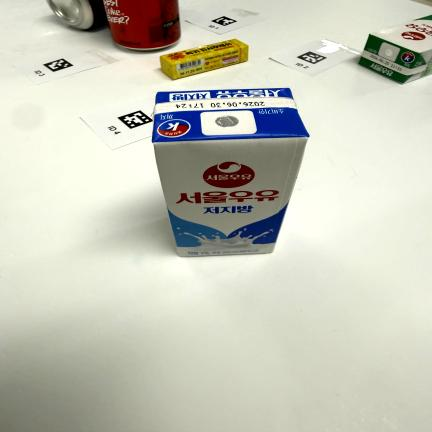milk_blue: (152, 88, 309, 256)
